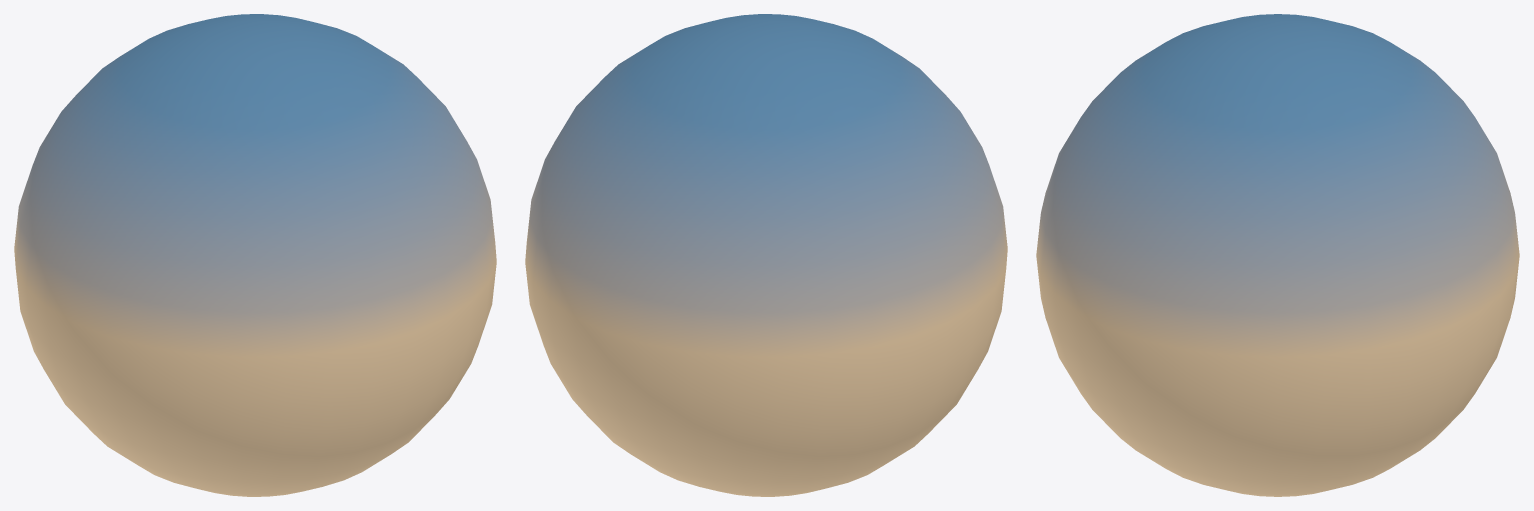
Rendered from neighborhood.glb.
3 renders of one model, left to right at view 1: azimuth 30°, elevation 25°; view 2: azimuth 150°, elevation 25°; view 3: azimuth 270°, elevation 25°, orthographic.
Parts seen in each view (by area): view 1: Sky sky; view 2: Sky sky; view 3: Sky sky.
Boxes of the visible parts, x1,y1,x2,y2 form: Sky sky: (14,14,496,496); Sky sky: (525,14,1007,496); Sky sky: (1036,14,1519,496).
Size of the model in its own units: 840 by 840 by 840.
